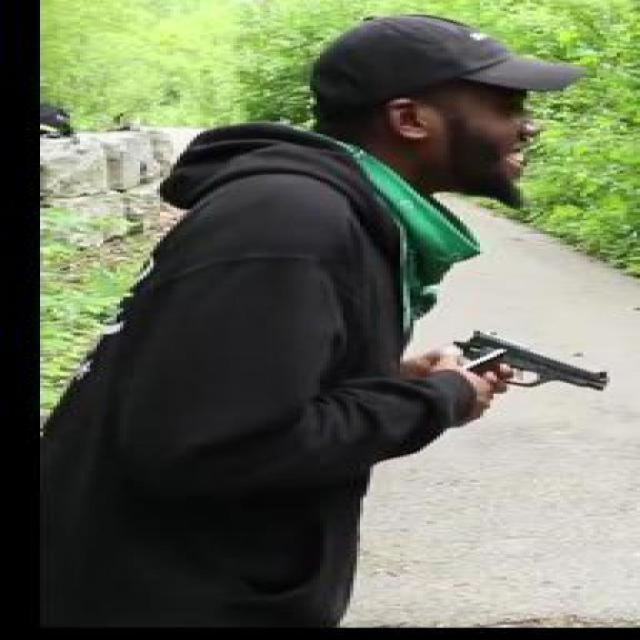pistol: (443, 326, 617, 412)
